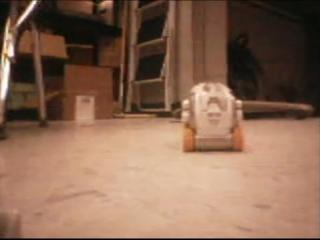cozmo: (180, 81, 245, 152)
